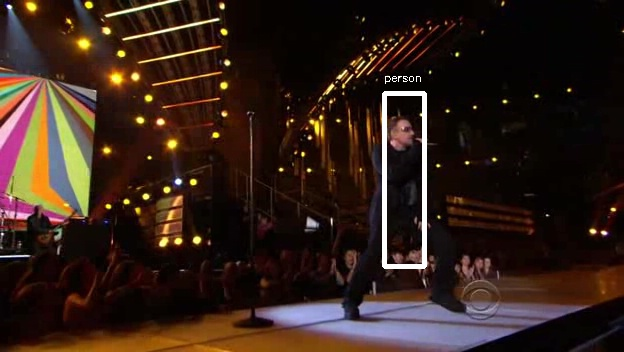person: (367, 118, 438, 247), (364, 118, 435, 247), (370, 118, 441, 247), (367, 115, 438, 244), (367, 121, 438, 250)
target_negative: (445, 69, 569, 168), (223, 264, 404, 330), (486, 206, 516, 255), (520, 321, 622, 330), (280, 347, 371, 352), (450, 157, 563, 159)
